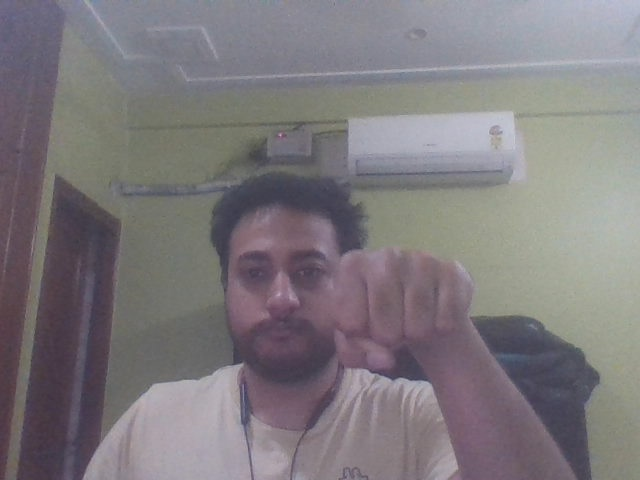Yes: (324, 242, 492, 381)
